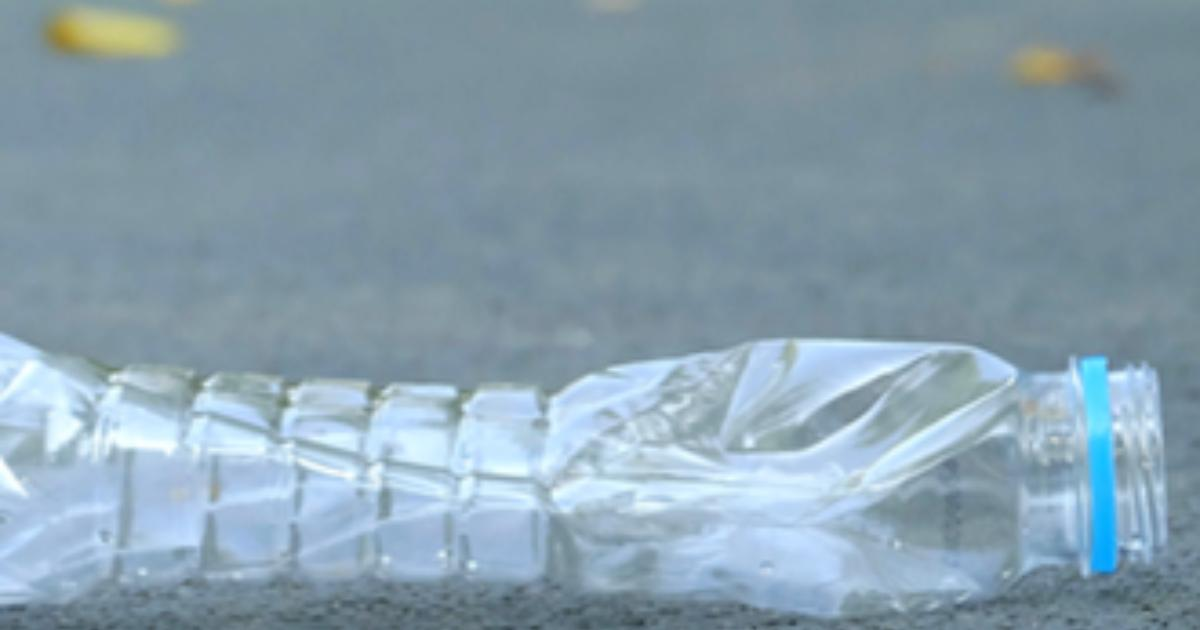bottle: (0, 232, 1200, 630)
